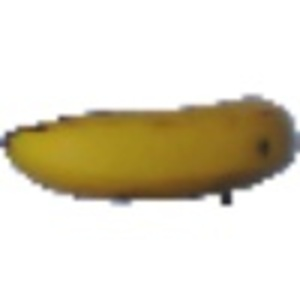banana: (2, 90, 296, 211)
